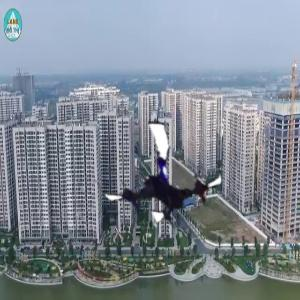drone: (95, 111, 225, 241)
